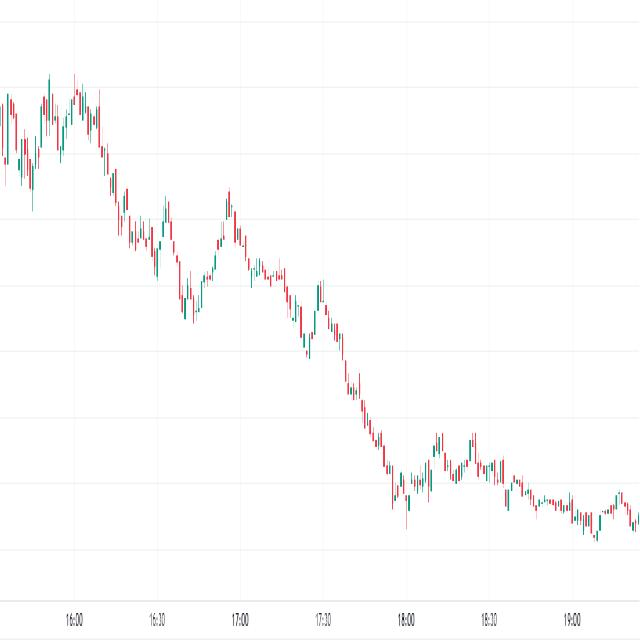Channel-down: (307, 253, 423, 551), (55, 39, 171, 320), (211, 162, 325, 393)
Channel-up: (180, 170, 249, 345)
